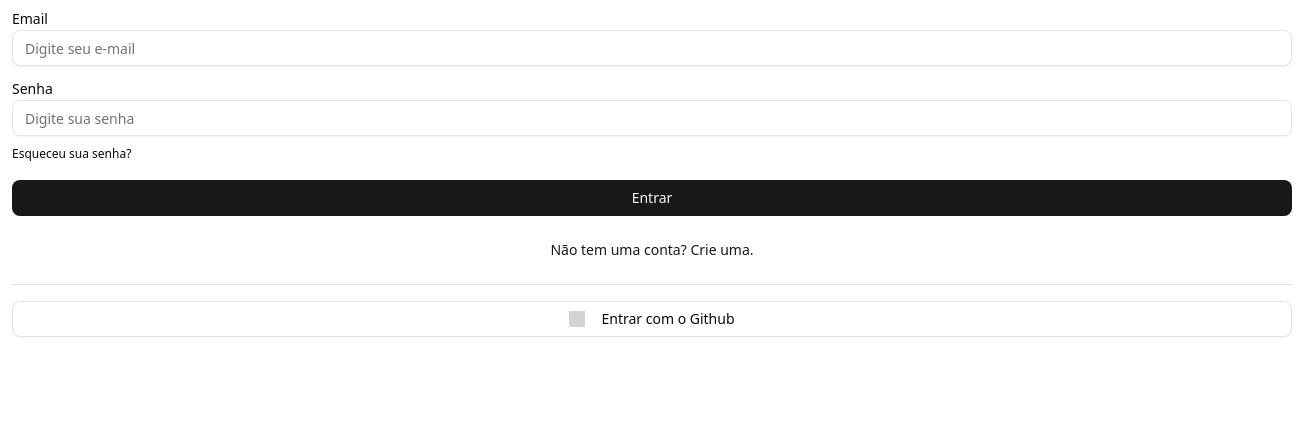
Test: <SignInForm /> › should show error alert when sign in fails
This screenshot has width=1304, height=441.
In the field labelled "Email": (652, 48) 12,30 -> 1292,66, type "test@example.com"
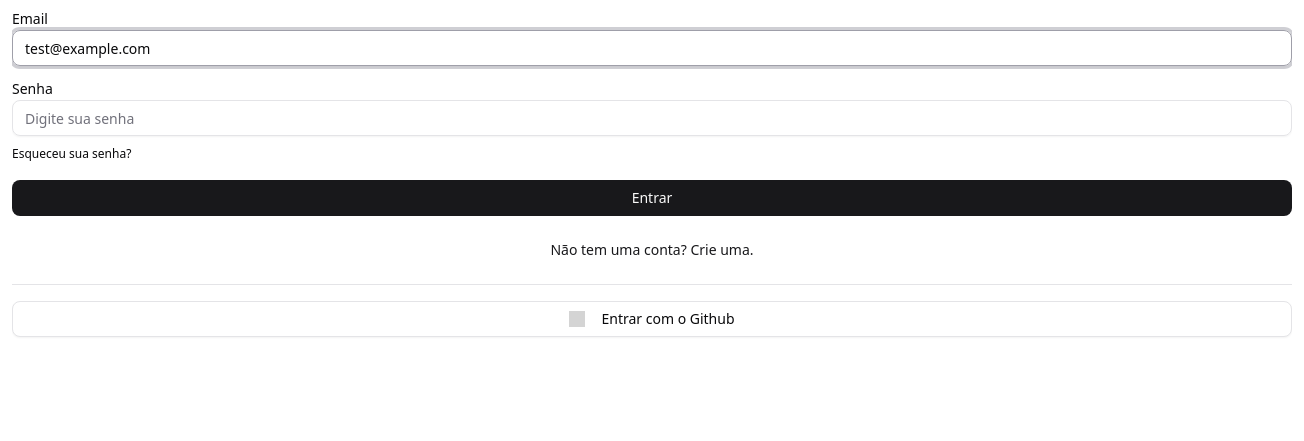
In the password field labelled "Senha": (652, 118) 12,100 -> 1292,136, type "wrongpassword"
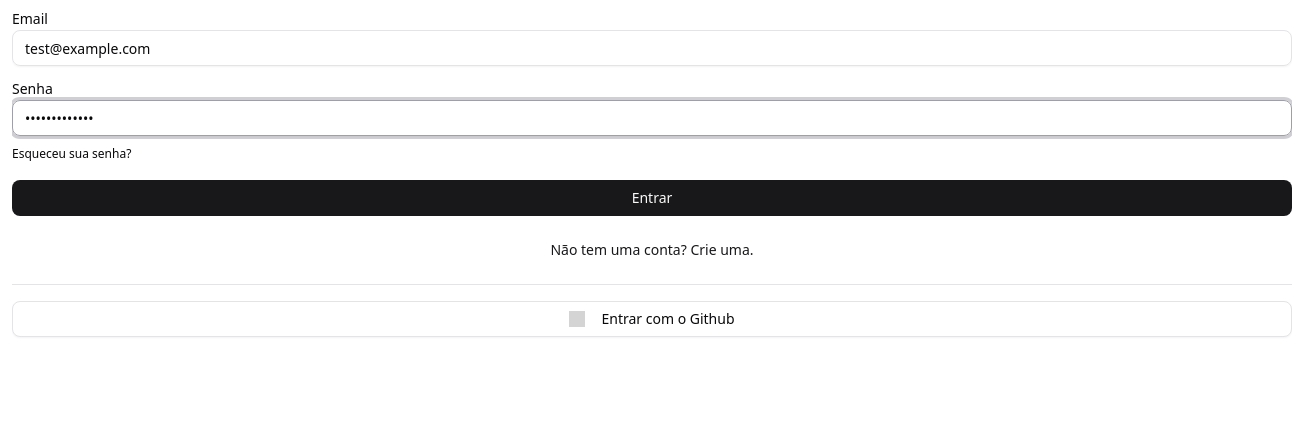
Click the button "Entrar": (652, 198) 12,180 -> 1292,216
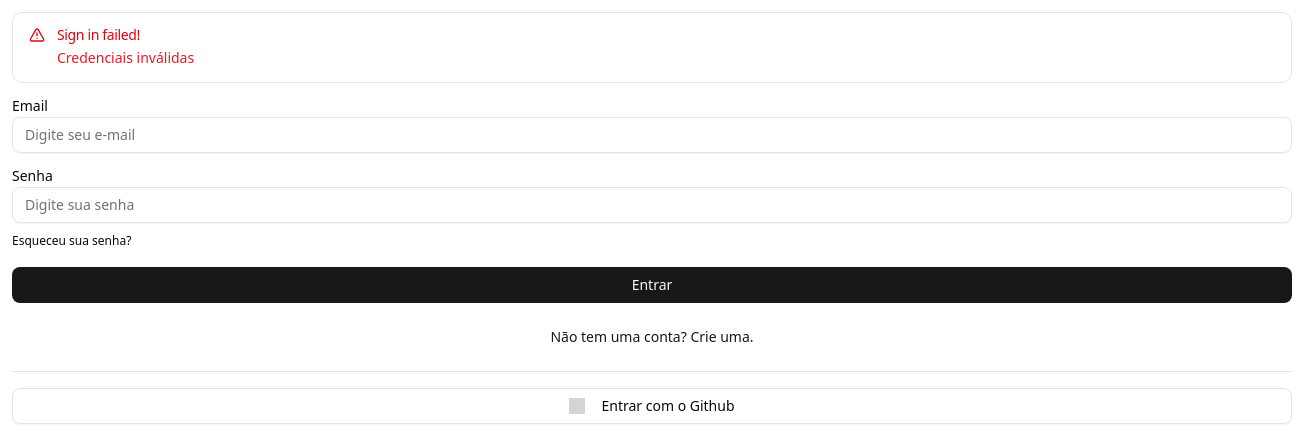
Now the message "Sign in failed! Credenciais inválidas" is shown, box 12,12 -> 1292,83
Now the text "Sign in failed!" is shown, box 57,25 -> 140,44
Now the text "Credenciais inválidas" is shown, box 57,47 -> 194,70
